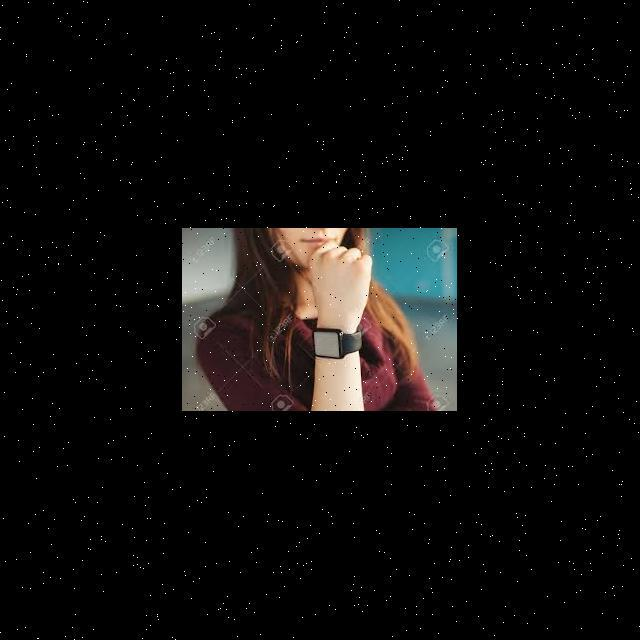watch: (307, 302, 370, 368)
